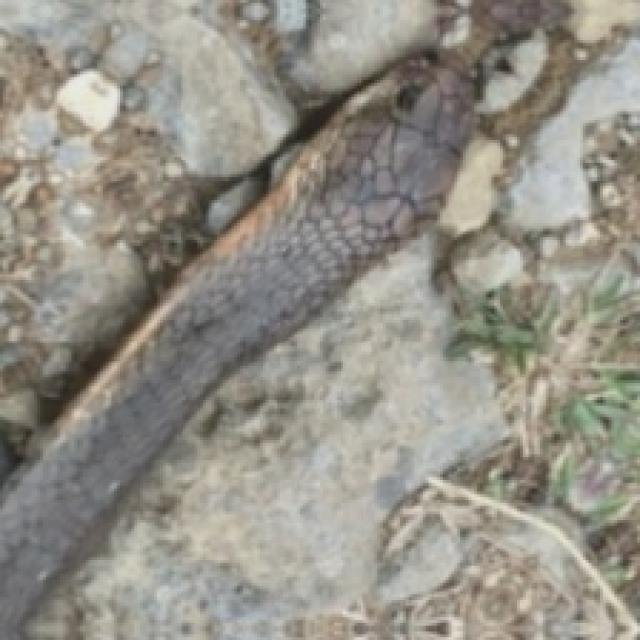king cobra: (29, 0, 637, 637), (0, 0, 554, 637)
